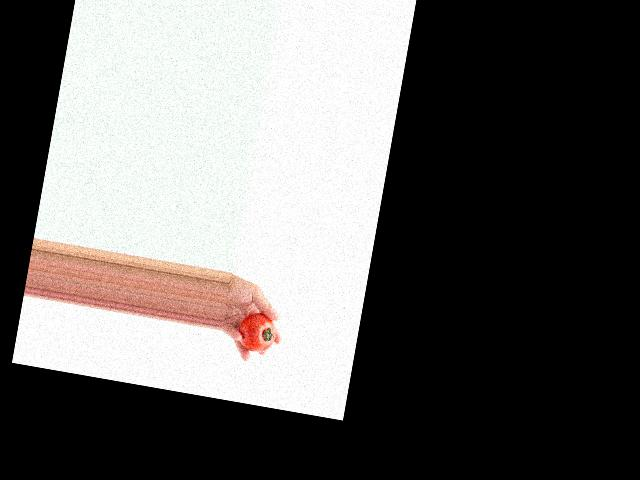tomato: (235, 310, 278, 355)
